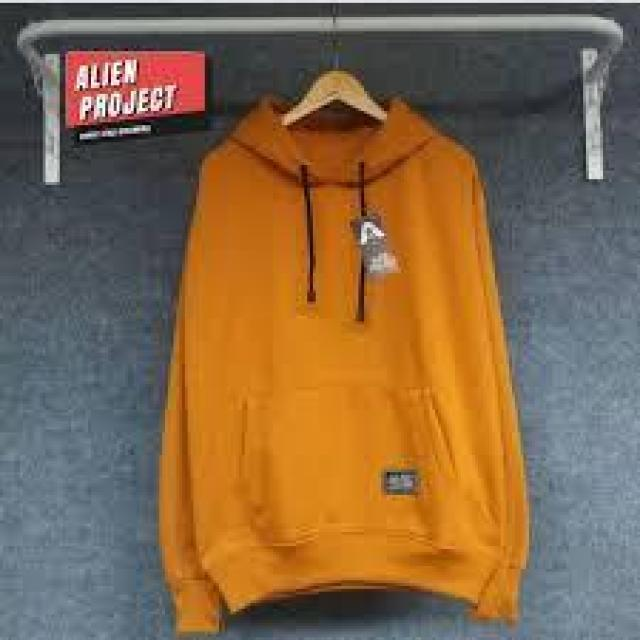sweater: (150, 99, 526, 640)
